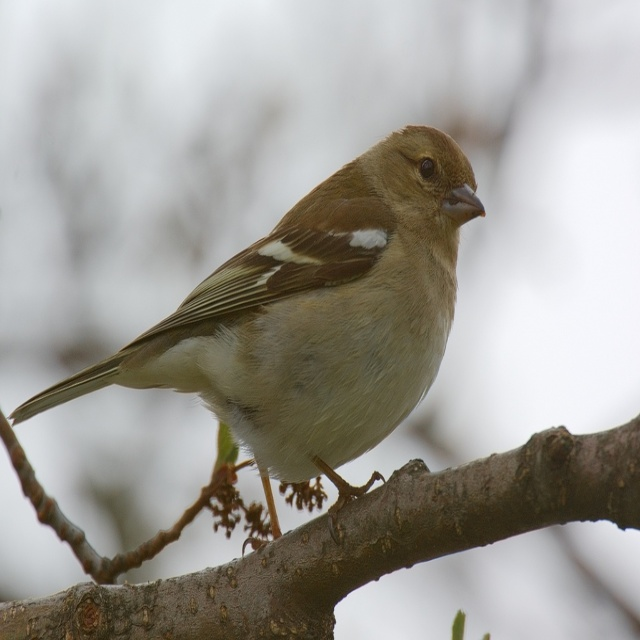Sparrow: (5, 126, 485, 548)
